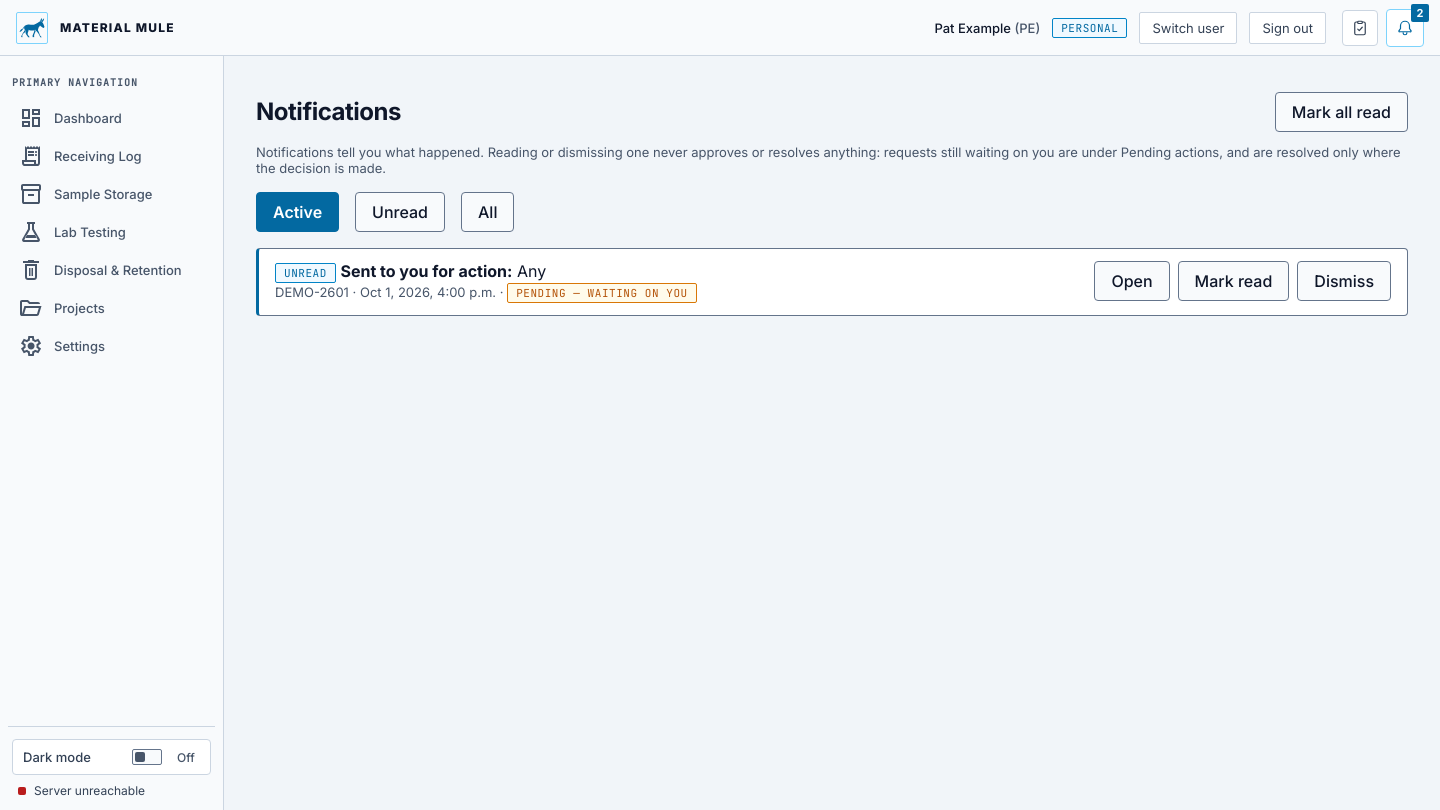
Test: Notification center paging (MM-T91 review) › reading the last row on screen refills with older unread ones and never claims all are read too early
Check: the list item "Any" is shown, box [256,248,1408,316]
Click the button "Unread" at (400, 212), box [355,192,445,232]
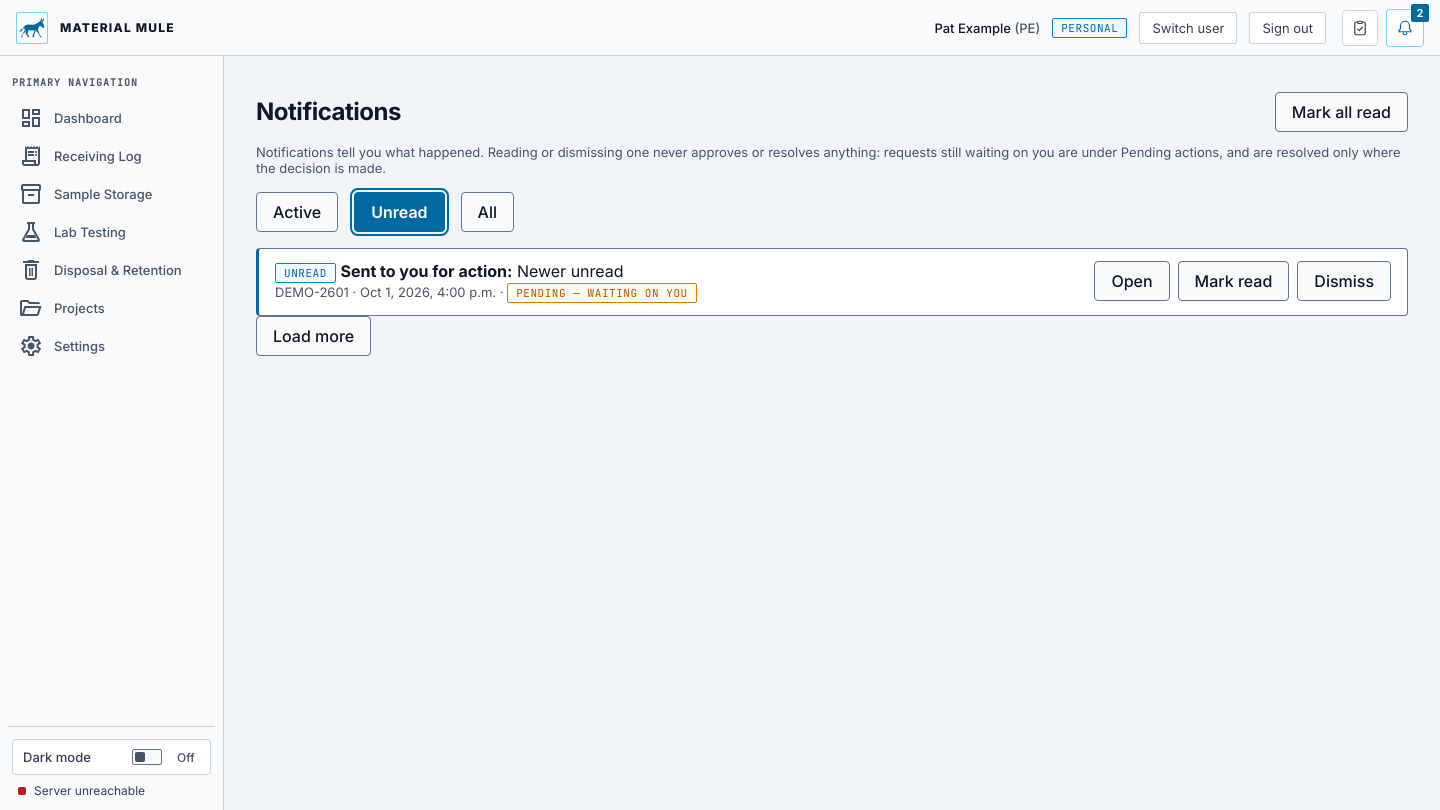
Click the button "Mark read" at (1234, 281), box [1178,261,1289,301]
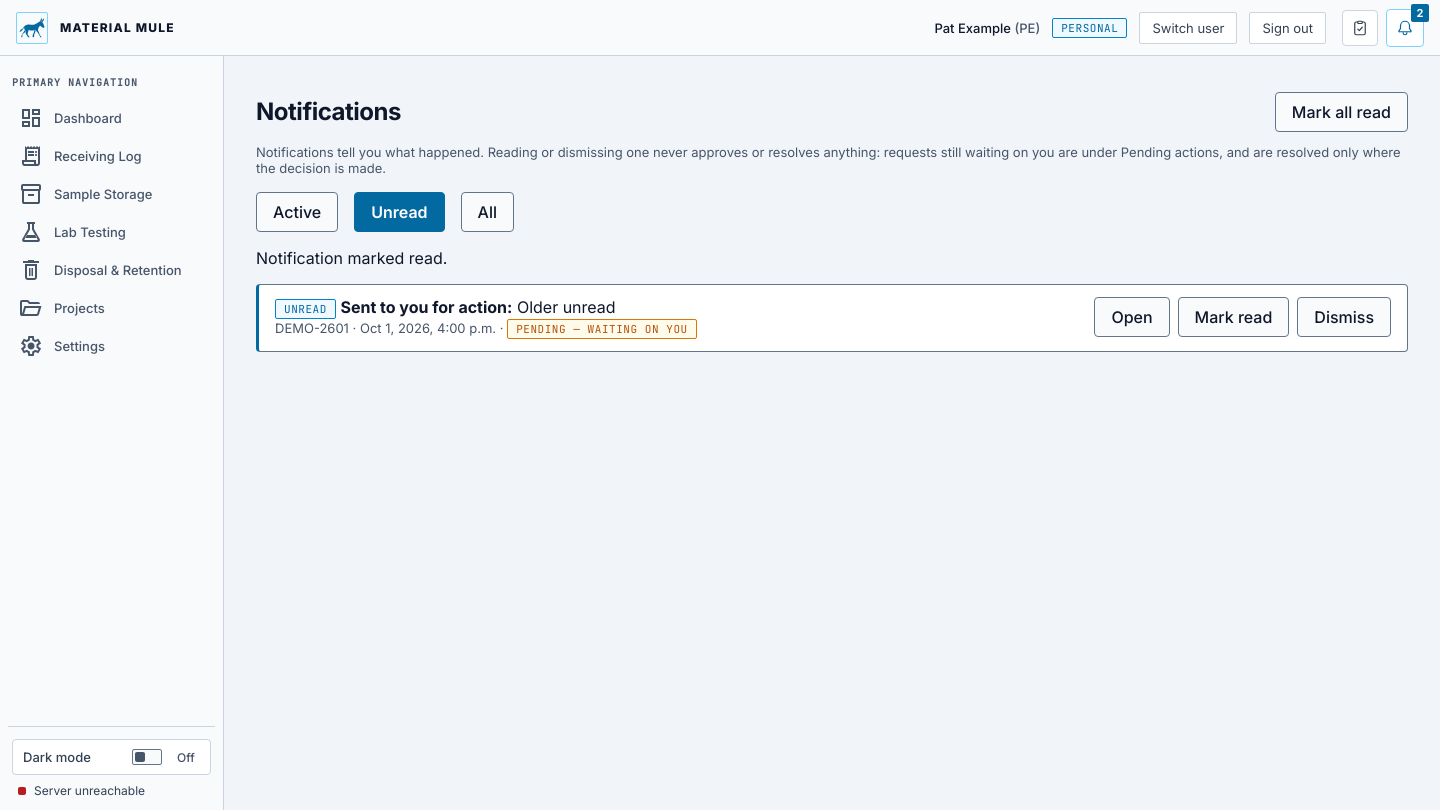
Check: the text "You have read every notification." is not shown
Check: the list item "Older unread" is shown, box [256,284,1408,352]
// Only now, with nothing older left, does the page say so.
Click the button "Mark read" at (1234, 317), box [1178,297,1289,337]
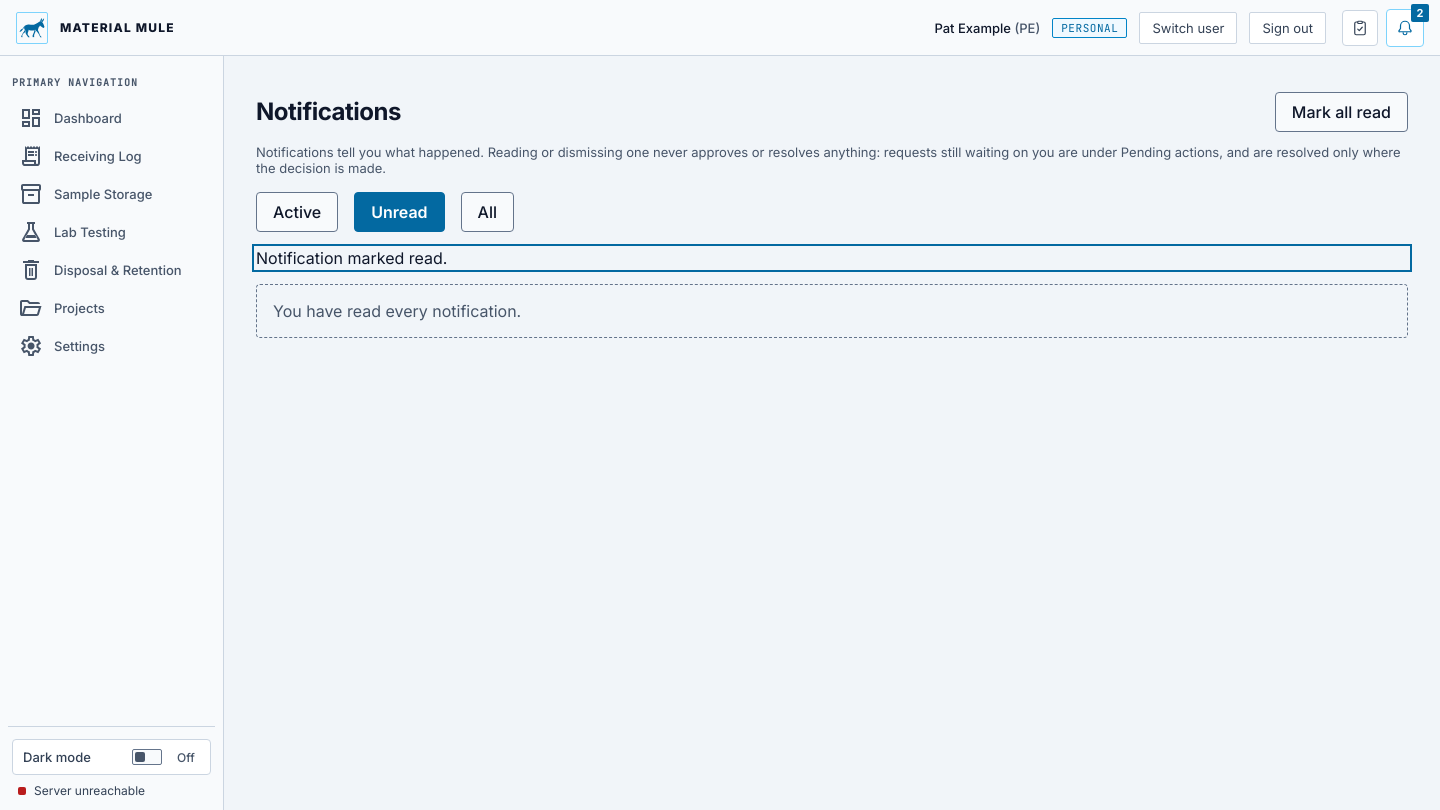
Check: the text "You have read every notification." is shown, box [256,284,1408,338]
